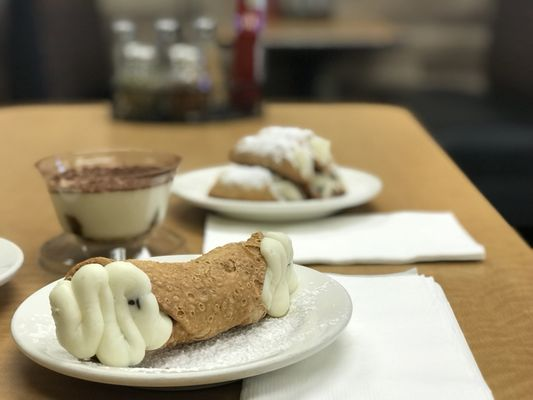sushi: (33, 148, 182, 268)
